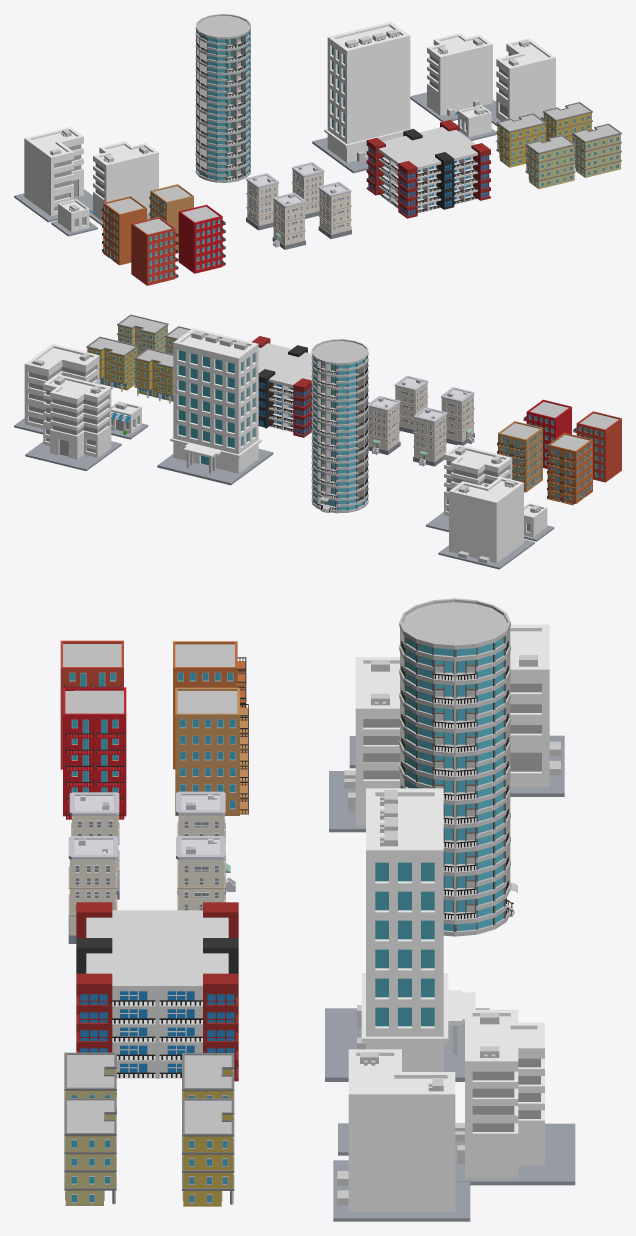
File: now_lower_half_v1.fbx
3 views of the same model, one above another, from view 1: azimuth 30°, elevation 25°; view 2: azimuth 150°, elevation 25°; view 3: azimuth 270°, elevation 25° (orthographic). The views are drawn at different scales.
Visible parts, largest first — view 1: Cube.002_Cube.003; view 2: Cube.002_Cube.003; view 3: Cube.002_Cube.003.
Boxes of the visible parts, <box> form: Cube.002_Cube.003: <box>14,14,621,285</box>; Cube.002_Cube.003: <box>14,314,621,569</box>; Cube.002_Cube.003: <box>60,598,575,1221</box>.
Size of the model in its own units: 74990 by 21402 by 33795.
